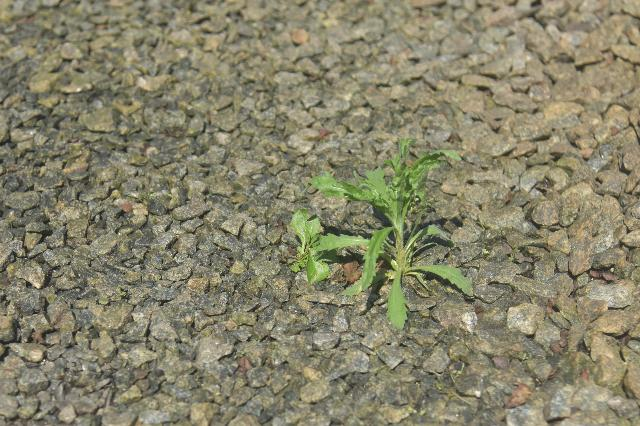MalezaMontesDelPlata: (339, 132, 477, 331), (284, 206, 349, 291)
